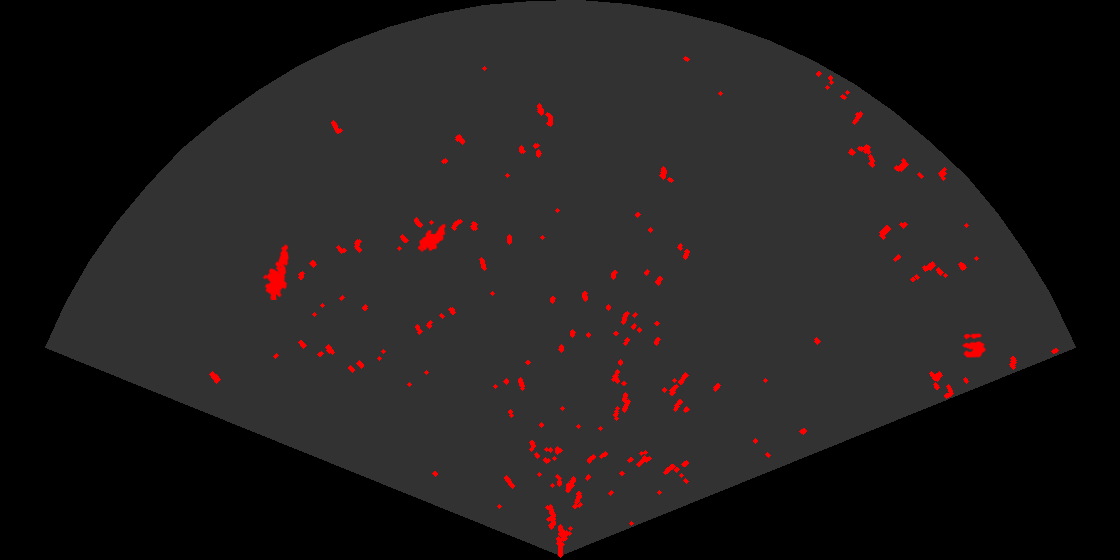AUV: (416, 222, 447, 253)
ball: (960, 332, 987, 359)
frogman: (261, 242, 290, 300)
